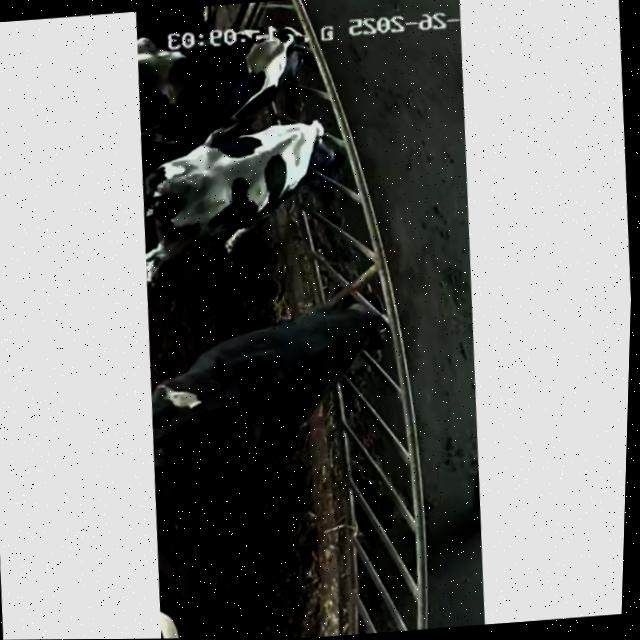eat: (281, 260, 435, 386), (219, 102, 379, 215), (208, 15, 350, 107)
